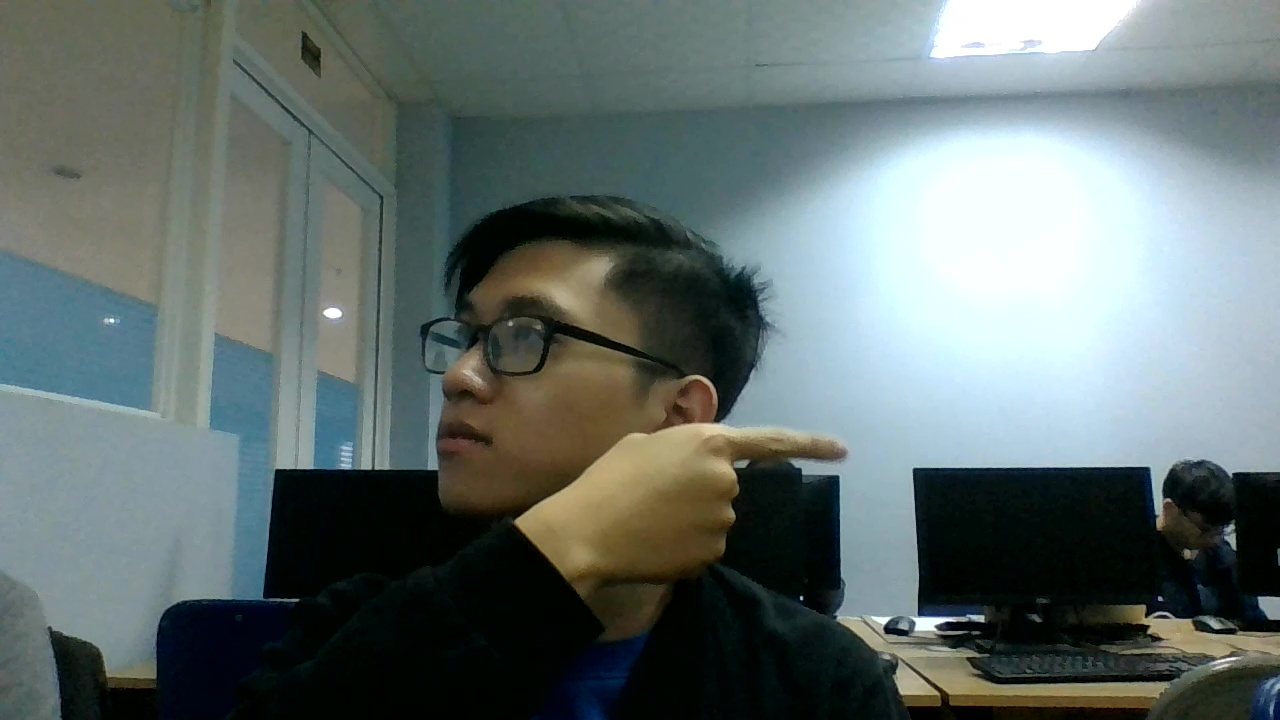left: (562, 415, 851, 592)
